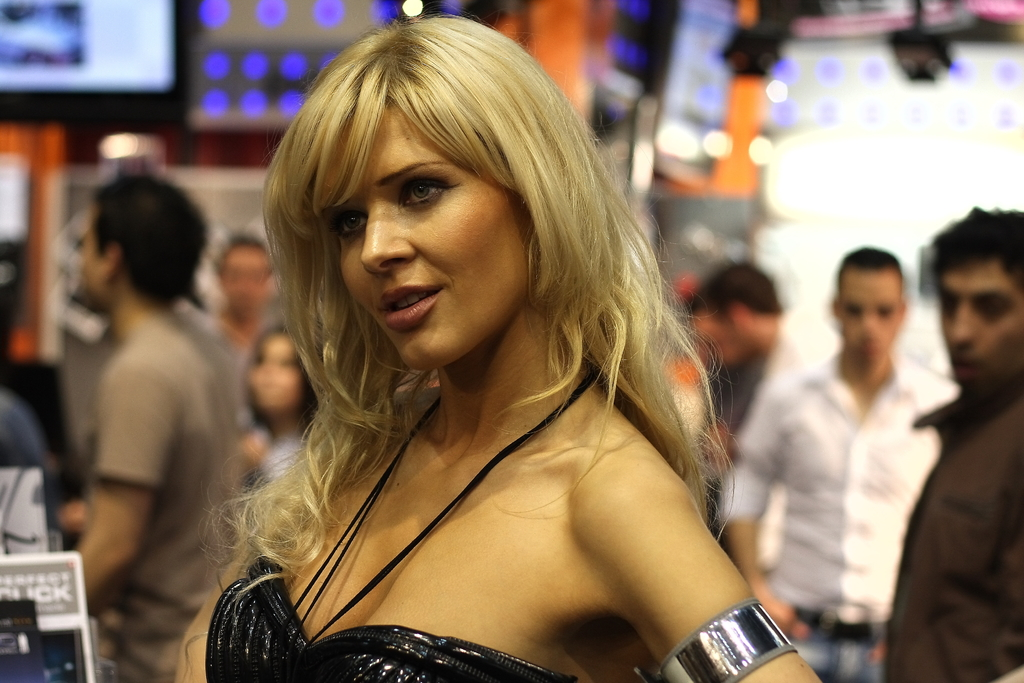Person: (717, 204, 1021, 683)
